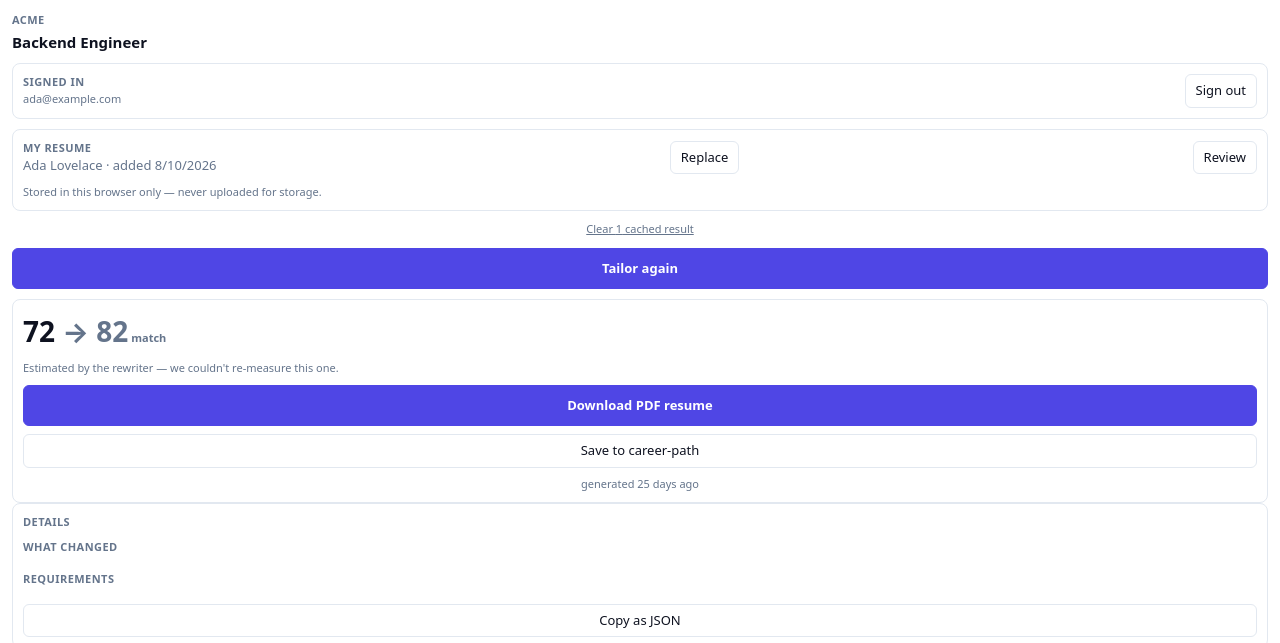
Test case: App - account bar, sign-out, and session handling › sign-out with the box UNCHECKED ends only the session — resume, cache, and the displayed run all survive
Check: the element showing "72 → 82 match" is shown, box [23,312,166,350]
Click the button "Sign out": x=1221, y=91 [1184,74,1257,108]
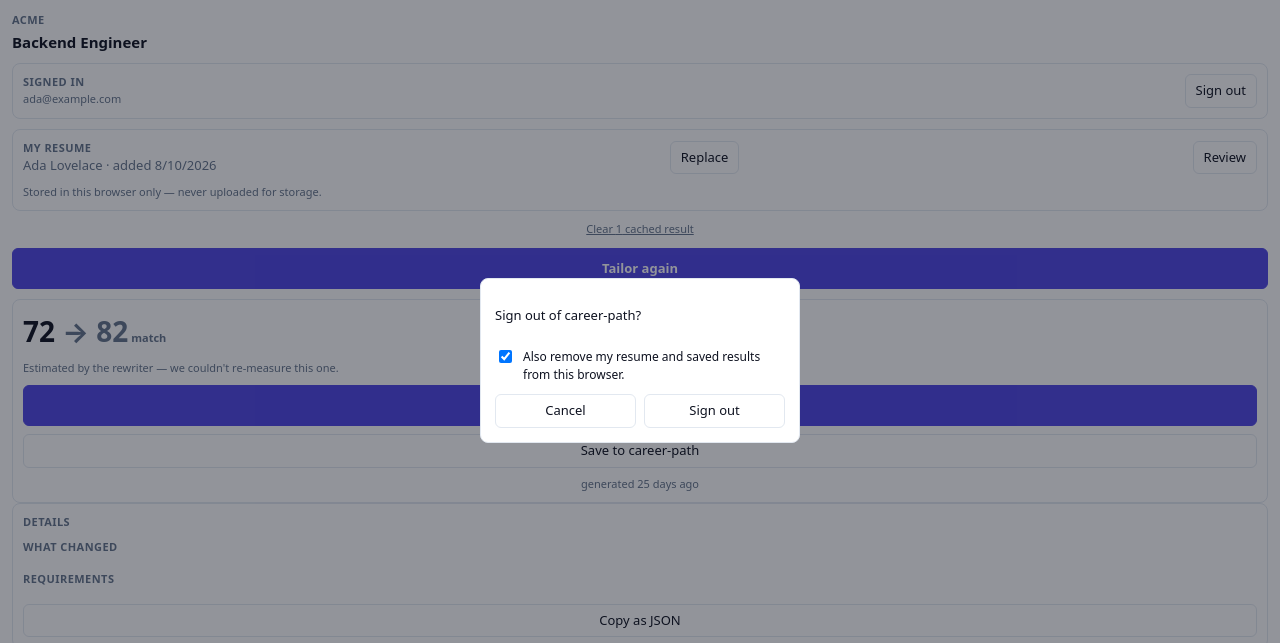
Click the checkbox labelled "Also remove my resume and saved results from this browser.": x=506, y=356 [499,350,512,363]
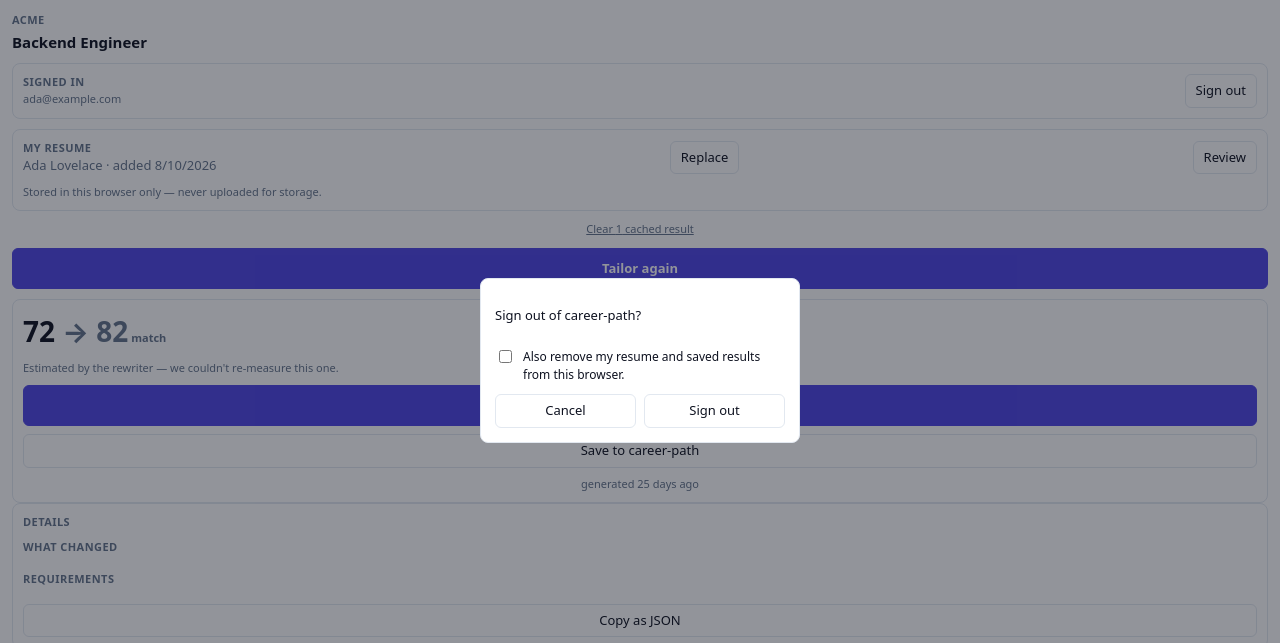
Check: the checkbox labelled "Also remove my resume and saved results from this browser." is not checked, box [499,350,512,363]
Click the button "Sign out": x=714, y=411 [644,394,785,428]
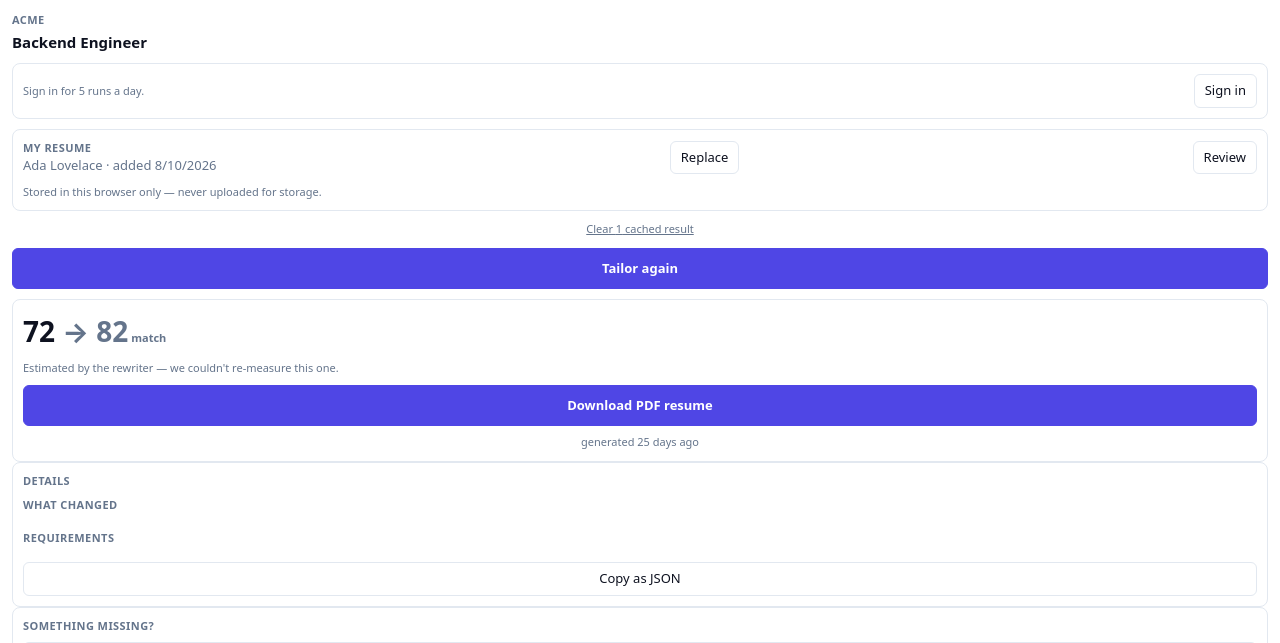
Check: the element showing "72 → 82 match" is shown, box [23,312,166,350]
Check: the link "Sign in" is shown, box [1194,74,1257,108]
